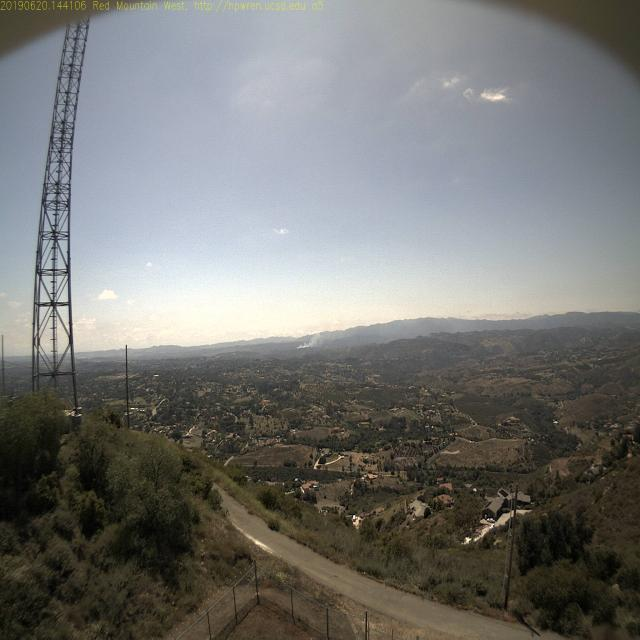smoke: (290, 326, 321, 358)
